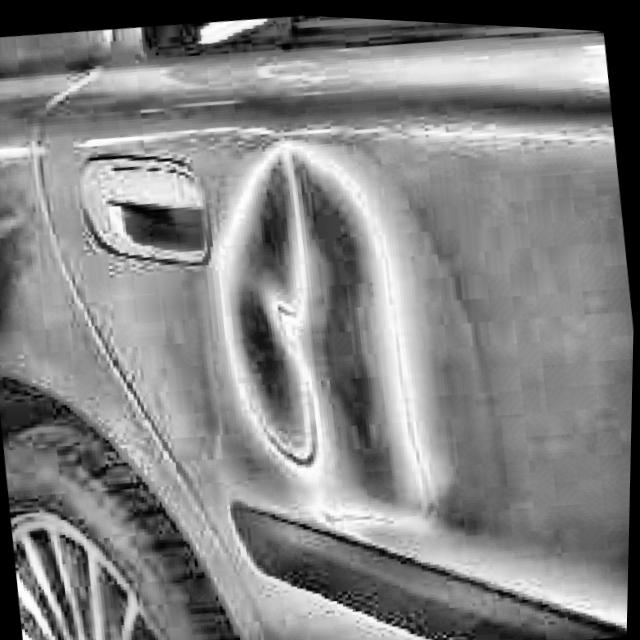door_dent: (188, 126, 439, 551)
